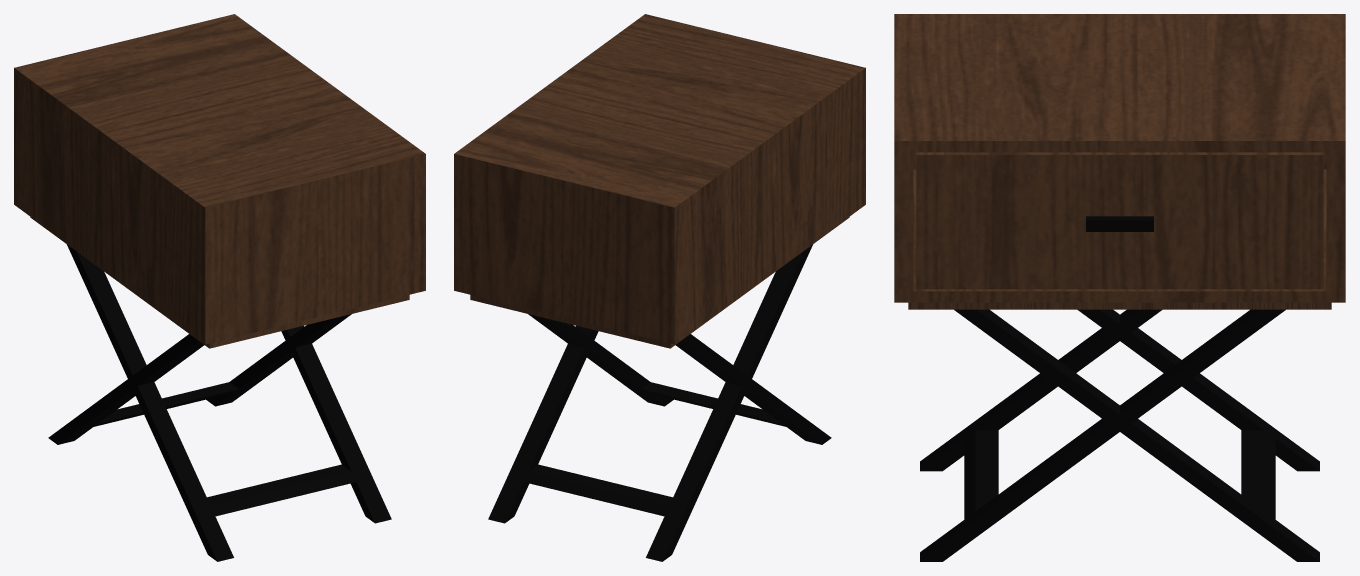
The model's file is Side Table 3.glb.
3 views of the same model, side by side, from view 1: azimuth 30°, elevation 25°; view 2: azimuth 150°, elevation 25°; view 3: azimuth 270°, elevation 25° (orthographic). The views are drawn at different scales.
Parts seen in each view (by area): view 1: Side Table 4; view 2: Side Table 4; view 3: Side Table 4.
Part boxes in pixels (box(x1,y1,x2,y2)): Side Table 4: box(14, 14, 425, 561); Side Table 4: box(454, 14, 865, 561); Side Table 4: box(894, 14, 1345, 561).
Size of what is drawn, in the model's own units: 0.6289 by 0.9708 by 0.9144.
Materials: 2 (2 with a texture image).
